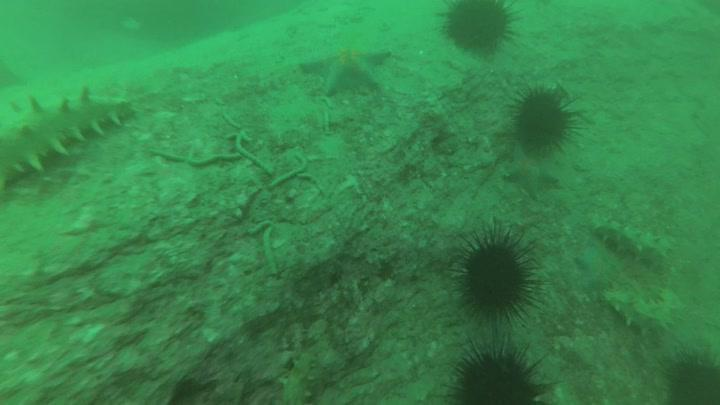urchin: (448, 222, 545, 323), (442, 331, 553, 403), (507, 78, 577, 155), (439, 2, 519, 55), (659, 354, 720, 405)
